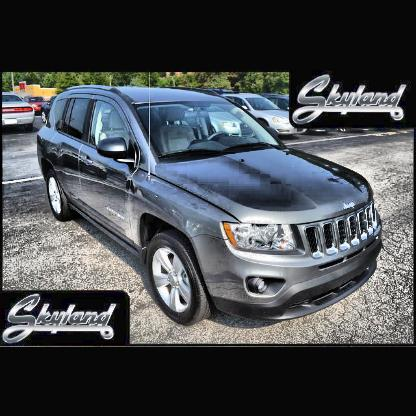Jeep Compass SUV 2012: (37, 84, 386, 329)
